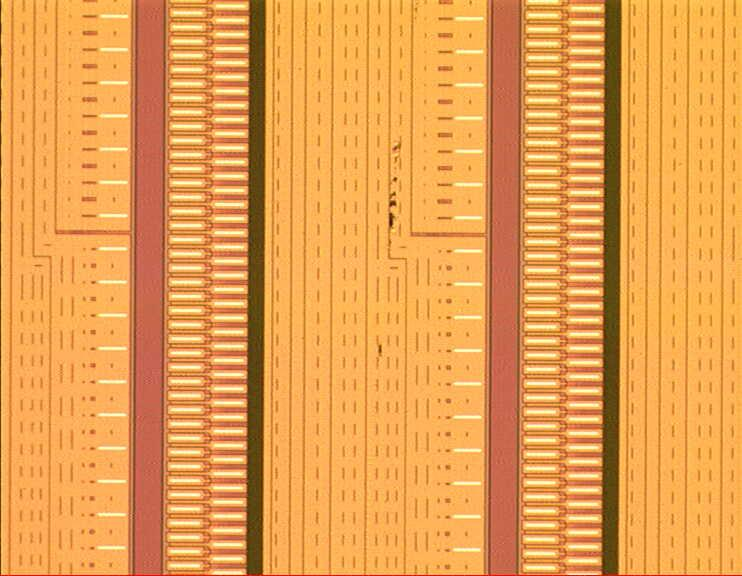SCRATCH: (373, 134, 407, 361)
